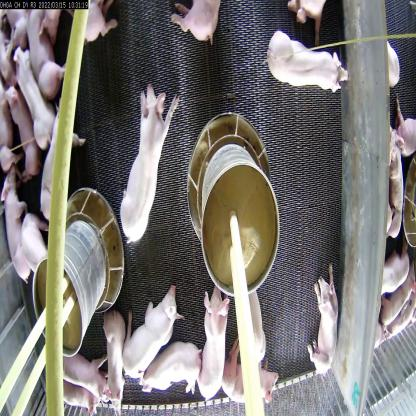Pig: (118, 74, 180, 249), (117, 278, 187, 387), (264, 25, 351, 93), (13, 42, 58, 152), (0, 165, 37, 294), (24, 5, 70, 102), (137, 337, 201, 406), (100, 305, 139, 416), (2, 74, 42, 182), (56, 341, 118, 407), (200, 277, 229, 403), (310, 260, 338, 381), (384, 112, 404, 244), (172, 0, 220, 48), (59, 372, 104, 416)
